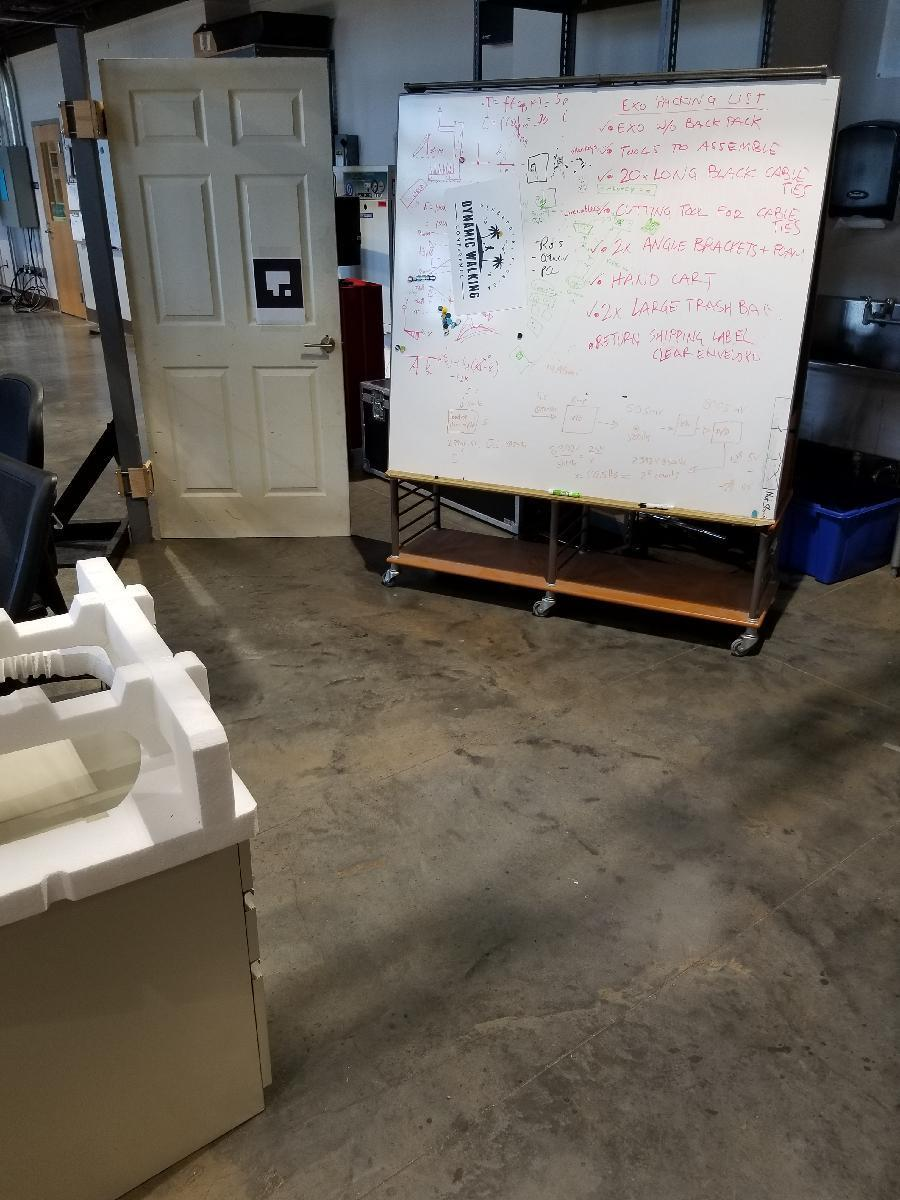door: (124, 53, 347, 536)
handle: (300, 328, 340, 364)
